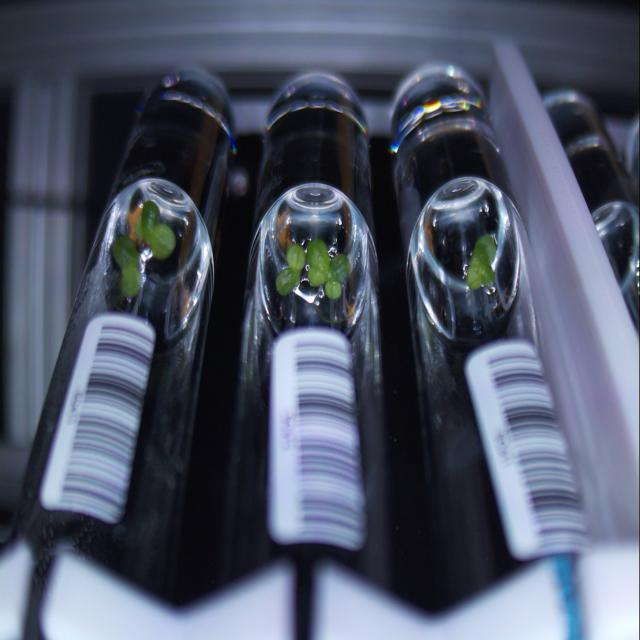Lemna-Gibba: (306, 238, 350, 299), (135, 200, 176, 260), (112, 235, 141, 297), (466, 233, 496, 290), (276, 267, 300, 295), (286, 243, 306, 270)
